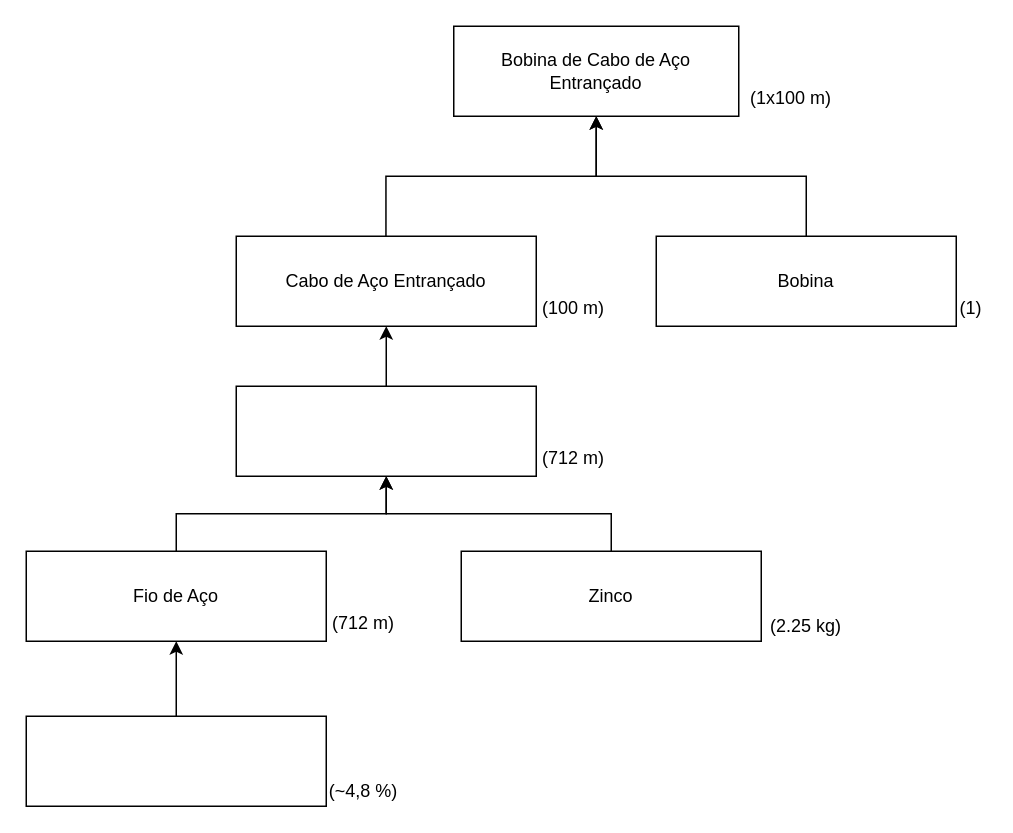
Some shapes in this 1013 by 833 pixel diagram are drawn without their labels. The shapes that lost their labels are listed below. From the top down, each one's centre as x and y in pixels, then its label:
At pixel 385 430: "Fio de Aço Galvanizado".
At pixel 175 760: "Tarugo de Aço".
